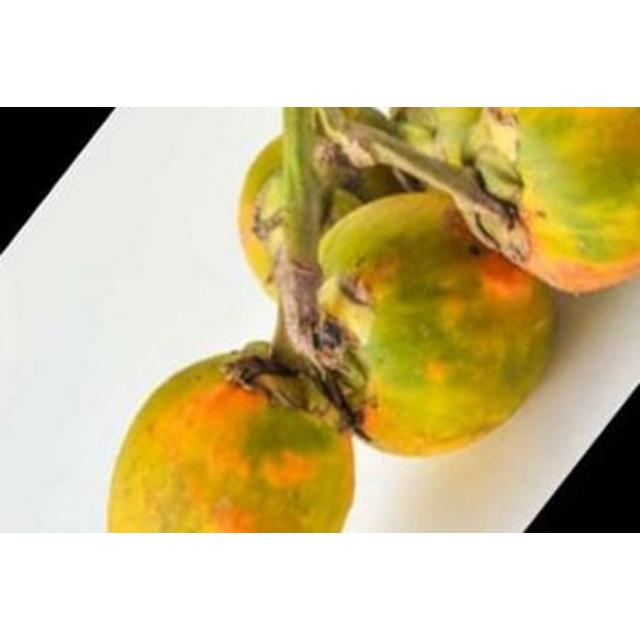good: (110, 107, 639, 532)
